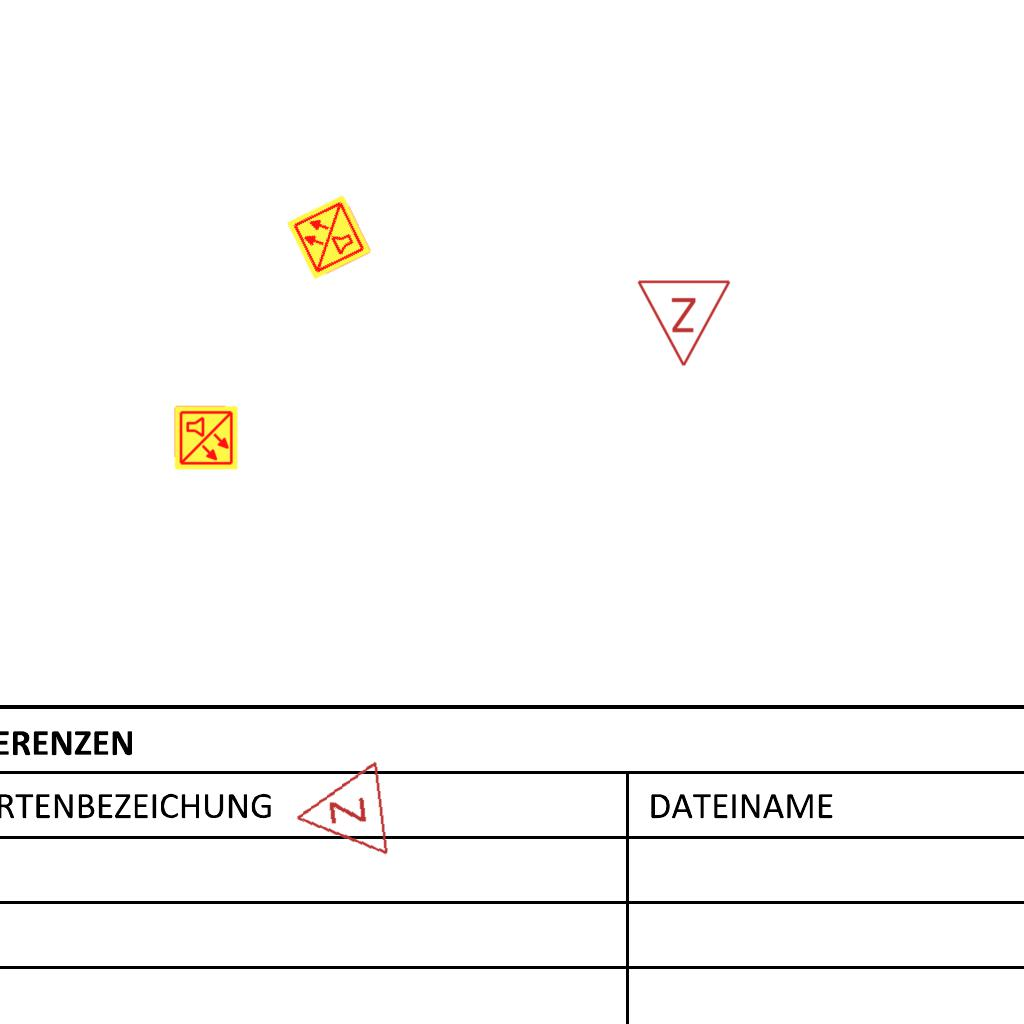OKW_Multisensormelder_(Kombination_optischer_Rauch-Kahlenmonoxid_Waerme-Melder): (284, 192, 374, 282), (173, 405, 239, 471)
Zimmersignalleuchte: (284, 759, 396, 869), (636, 273, 734, 373)
